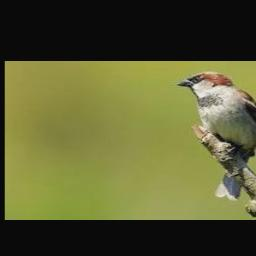Sparrow: (178, 71, 256, 200)
